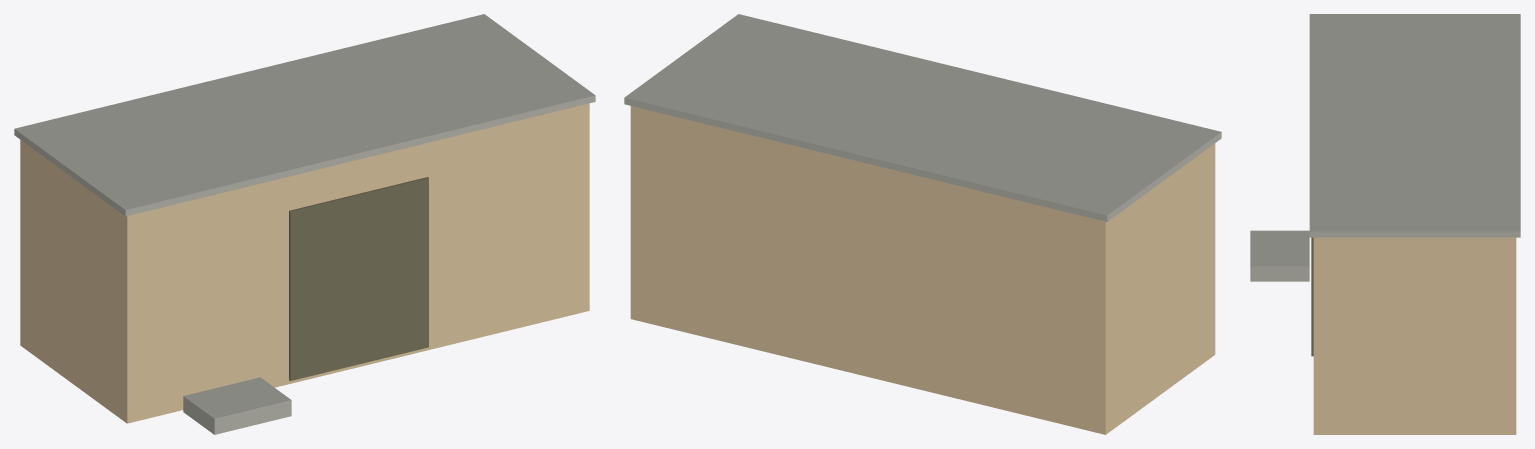
The model's file is SM_Caseta_v1_Almacen_LOD0.fbx.
The picture shows the model from 3 angles, left to right: view 1: azimuth 30°, elevation 25°; view 2: azimuth 150°, elevation 25°; view 3: azimuth 270°, elevation 25°; orthographic projection. The views are drawn at different scales.
Parts seen in each view (by area): view 1: SM_ambiente_aerodromo_v11_LOD0; view 2: SM_ambiente_aerodromo_v11_LOD0; view 3: SM_ambiente_aerodromo_v11_LOD0.
Boxes of the visible parts, <box> form: SM_ambiente_aerodromo_v11_LOD0: <box>14,14,595,434</box>; SM_ambiente_aerodromo_v11_LOD0: <box>624,14,1221,434</box>; SM_ambiente_aerodromo_v11_LOD0: <box>1250,14,1520,434</box>.
Size of the model in its own units: 6.1 by 2.68 by 3.2.
